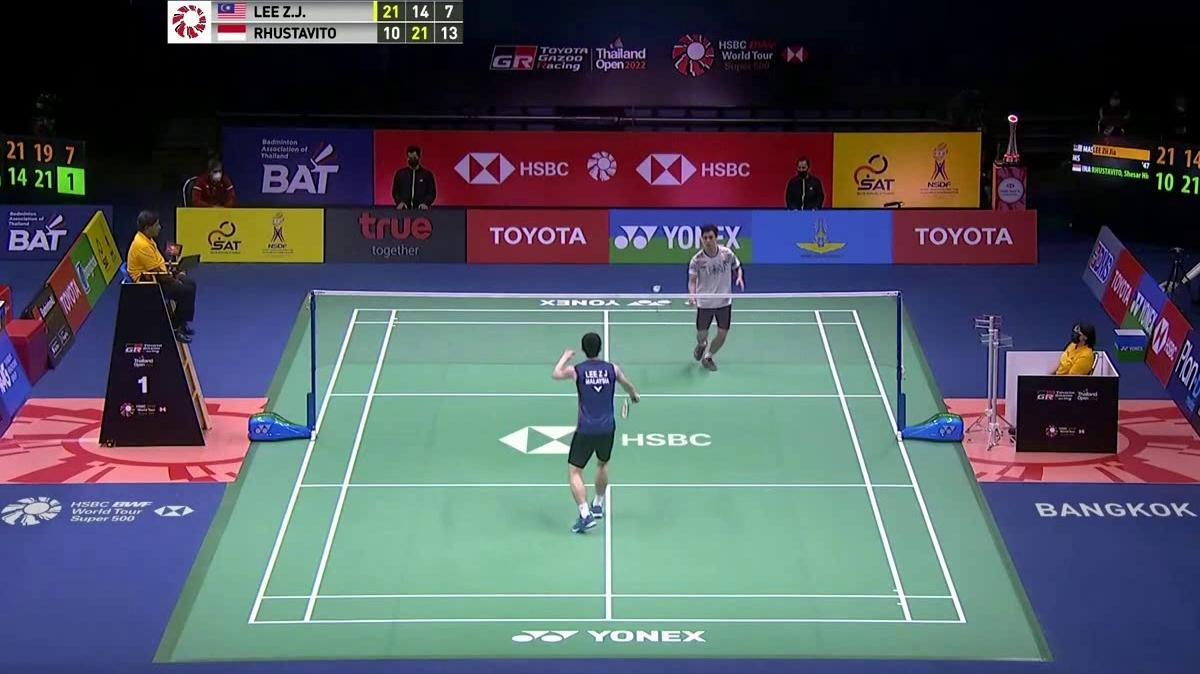racket: (656, 300, 695, 320), (620, 394, 640, 420)
shuttle: (652, 283, 661, 295)
